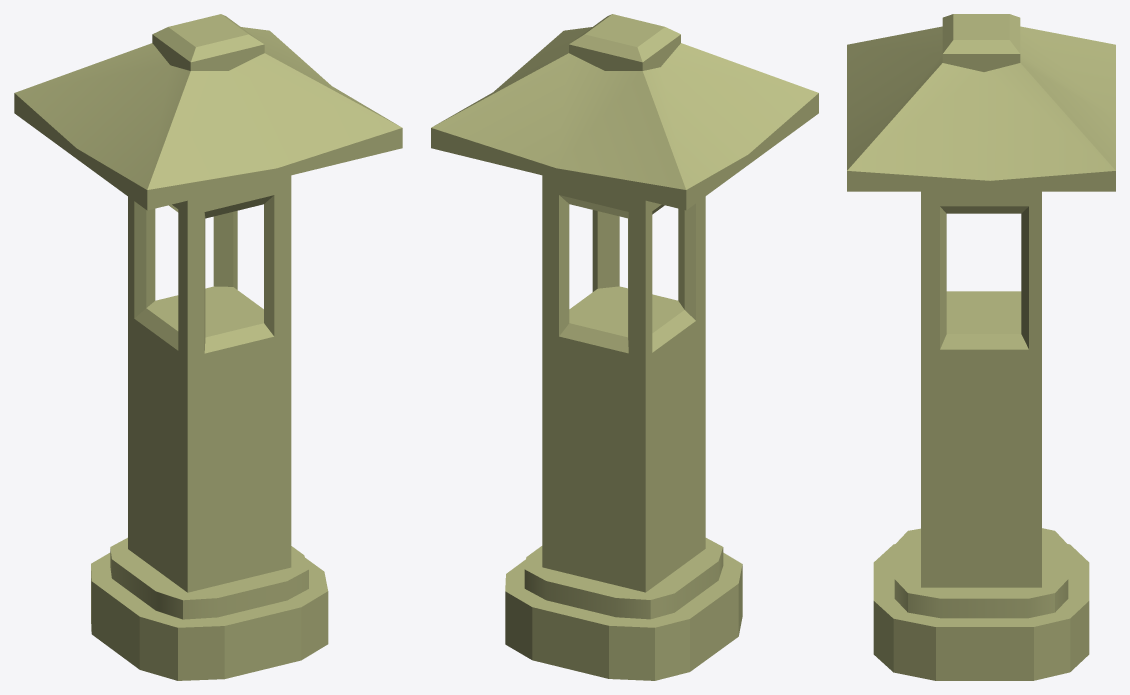
The model's file is monolito.fbx.
The picture shows the model from 3 angles, left to right: view 1: azimuth 30°, elevation 25°; view 2: azimuth 150°, elevation 25°; view 3: azimuth 270°, elevation 25°; orthographic projection.
Visible parts, largest first — view 1: pCube10; view 2: pCube10; view 3: pCube10.
Part boxes in pixels (x1=…): pCube10: x1=14, y1=14, x2=402, y2=680; pCube10: x1=431, y1=14, x2=818, y2=680; pCube10: x1=847, y1=14, x2=1115, y2=680.
Size of the model in its own units: 2.47 by 5.55 by 2.22.
